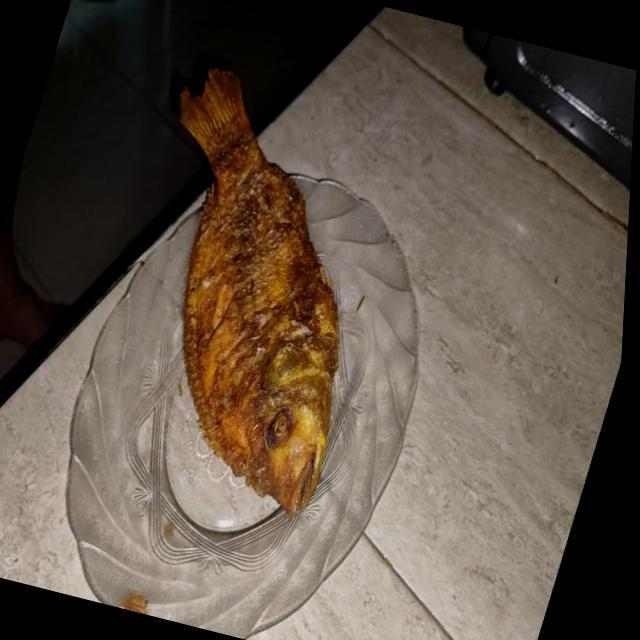ikan_mujair: (179, 68, 338, 518)
